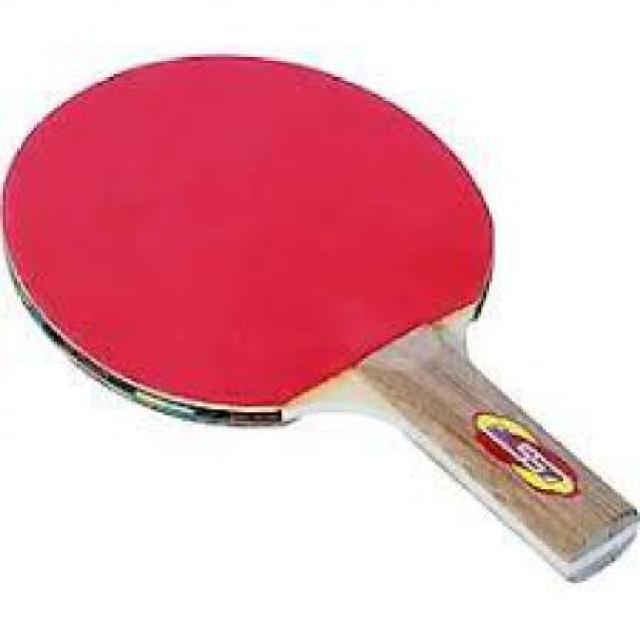table_tennis_racket: (1, 46, 502, 428)
